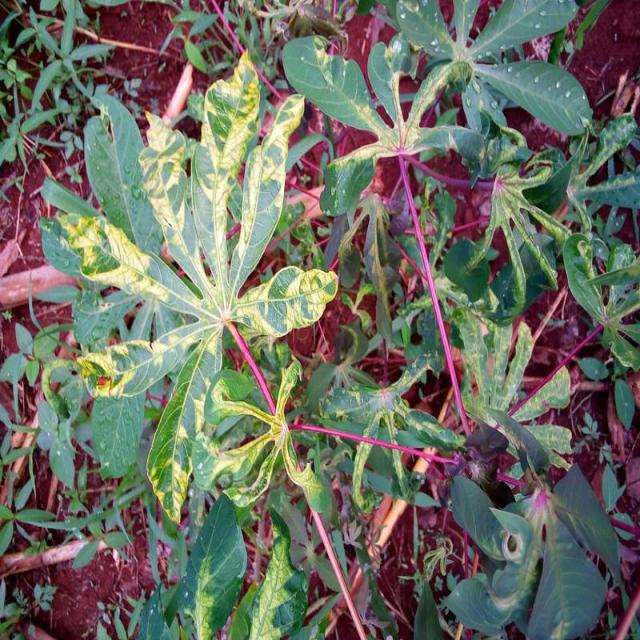cassava leaf: (38, 48, 339, 525)
